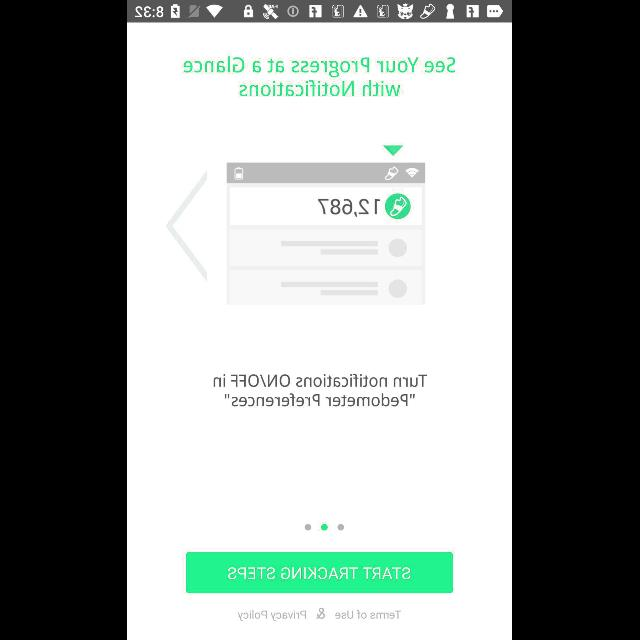icon: (166, 169, 208, 281)
image: (226, 145, 427, 303)
pageindicator: (305, 522, 345, 532)
text: (184, 56, 456, 98), (214, 372, 428, 408), (238, 607, 402, 621)
textbutton: (186, 552, 454, 594)
uppertaskbar: (128, 1, 512, 23)
